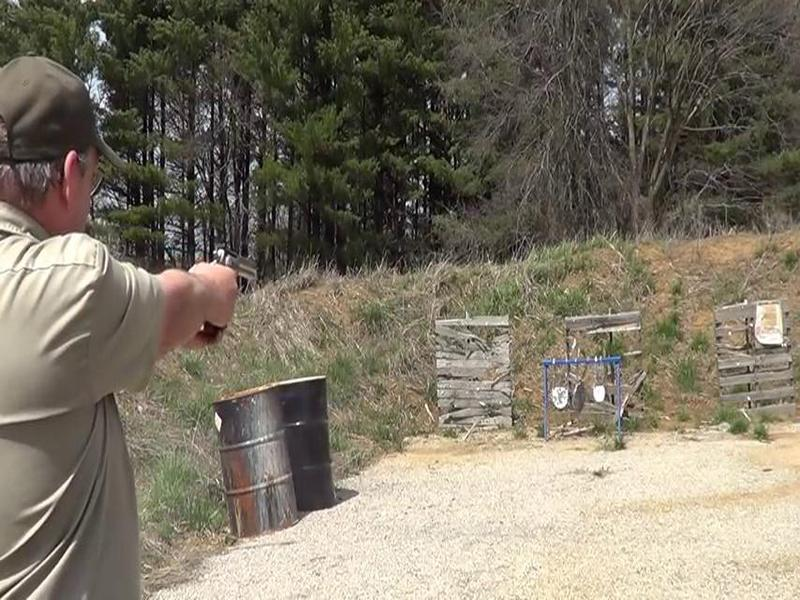Revolver: (198, 228, 264, 297)
